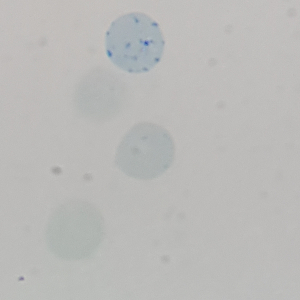aggregate reticulocyte: (103, 10, 167, 76)
erythrocyte: (43, 199, 103, 262)
punctate reticulocyte: (113, 121, 176, 182)
